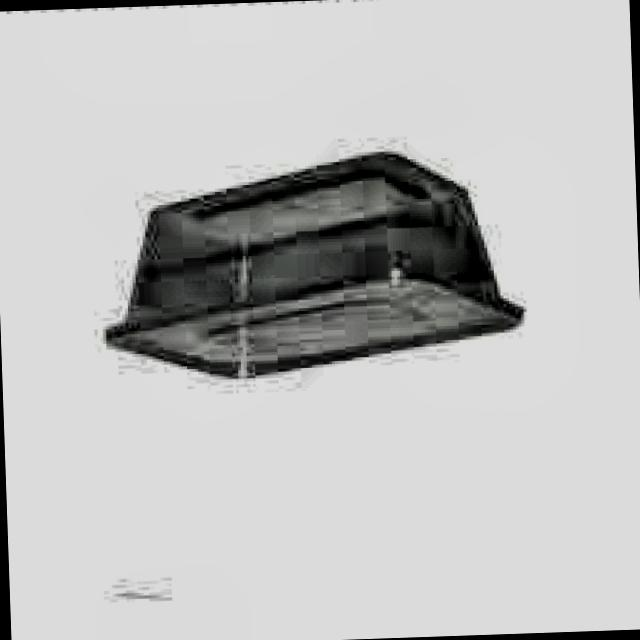plastic container: (107, 154, 522, 377)
